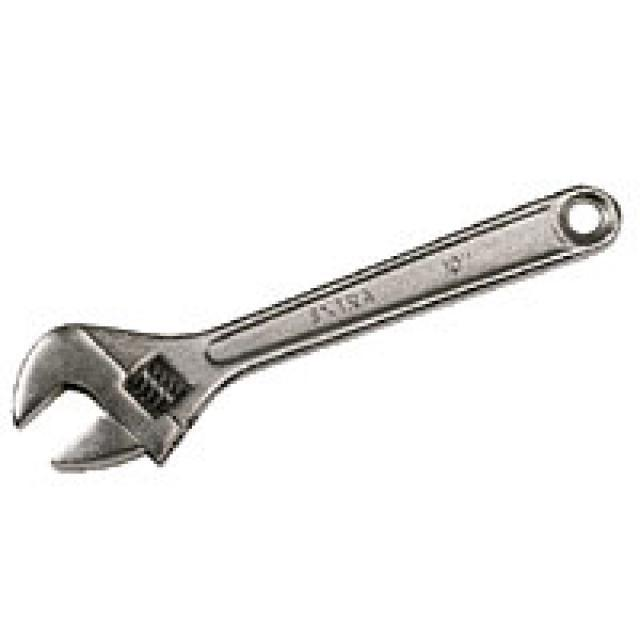wrench: (6, 173, 632, 484)
